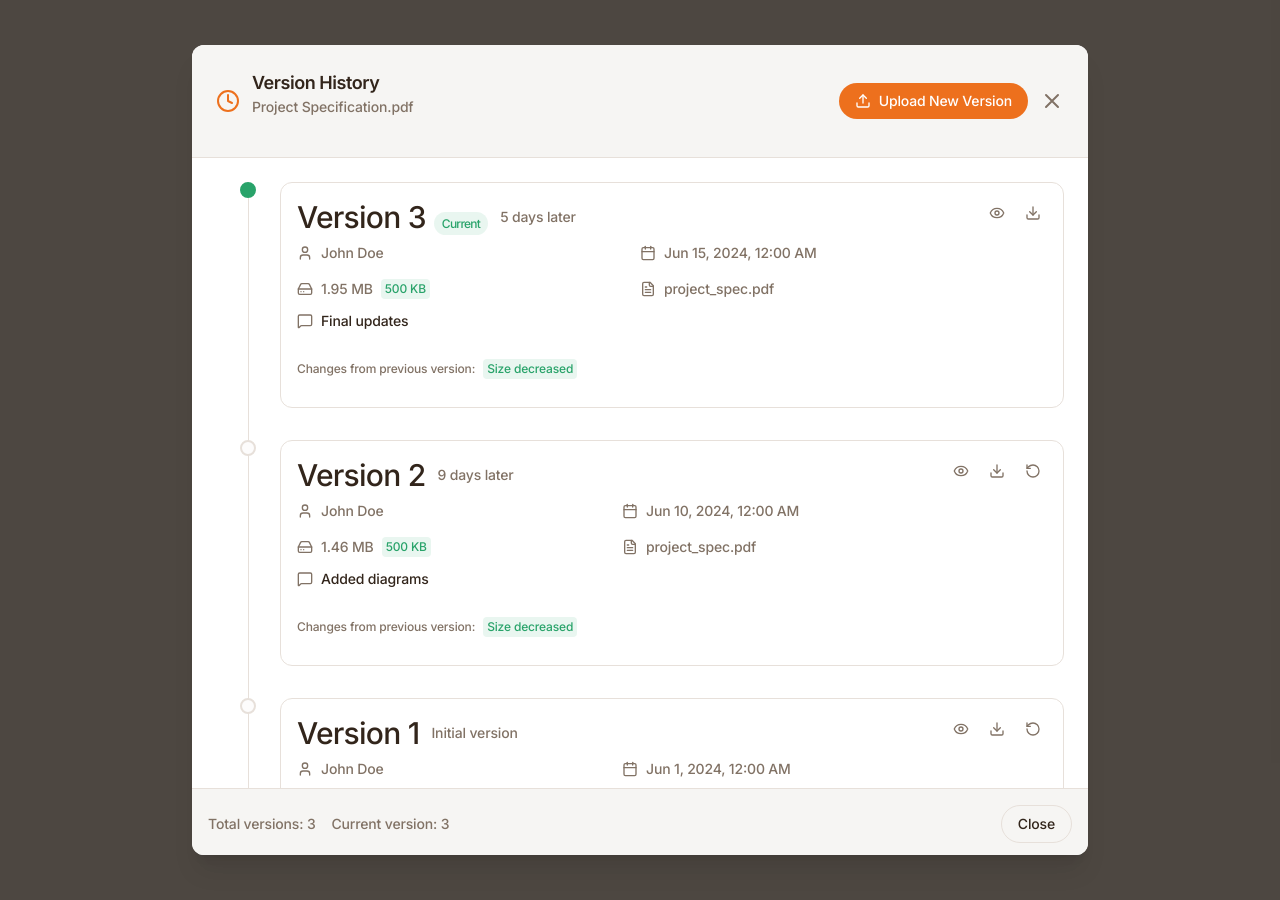
Test: DocumentVersionControl › Upload New Version › opens upload modal when button clicked
Click the button "Upload New Version". click: (933, 101)
box: top-left (839, 83), bottom-right (1028, 119)
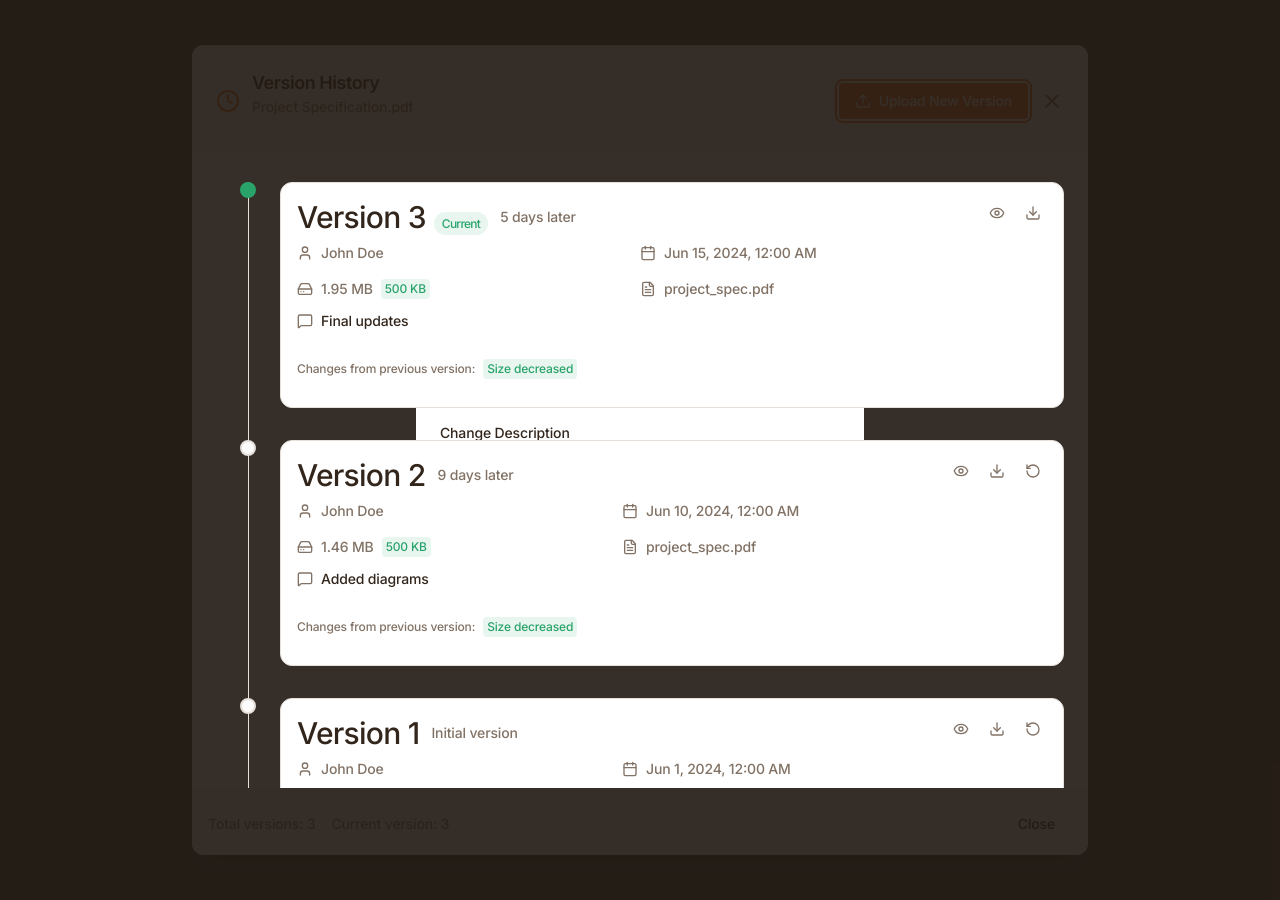
Now the text "Change Description" is shown, box top-left (440, 424), bottom-right (570, 440)
